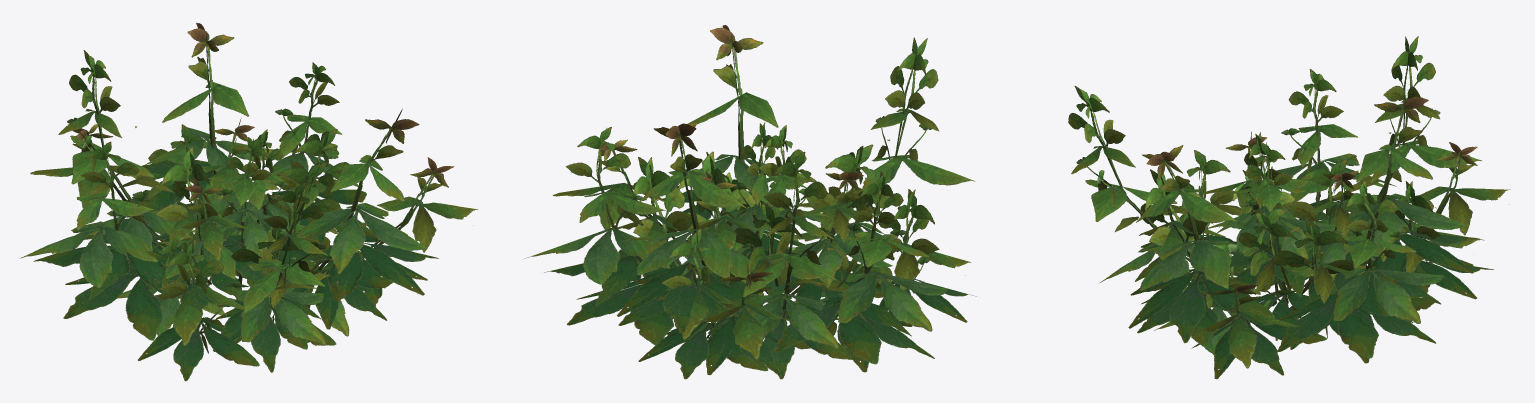
Rendered from 5006_Item_cao_1.FBX.
The picture shows the model from 3 angles, left to right: view 1: azimuth 30°, elevation 25°; view 2: azimuth 150°, elevation 25°; view 3: azimuth 270°, elevation 25°; orthographic projection. The views are drawn at different scales.
Visible parts, largest first — view 1: 5006_Item_cao_1; view 2: 5006_Item_cao_1; view 3: 5006_Item_cao_1.
Part boxes in pixels (left/top/right/bottom): 5006_Item_cao_1: left=20, top=22, right=478, bottom=381; 5006_Item_cao_1: left=524, top=25, right=976, bottom=379; 5006_Item_cao_1: left=1068, top=36, right=1510, bottom=379.
Size of the model in its own units: 726 by 419 by 715.
